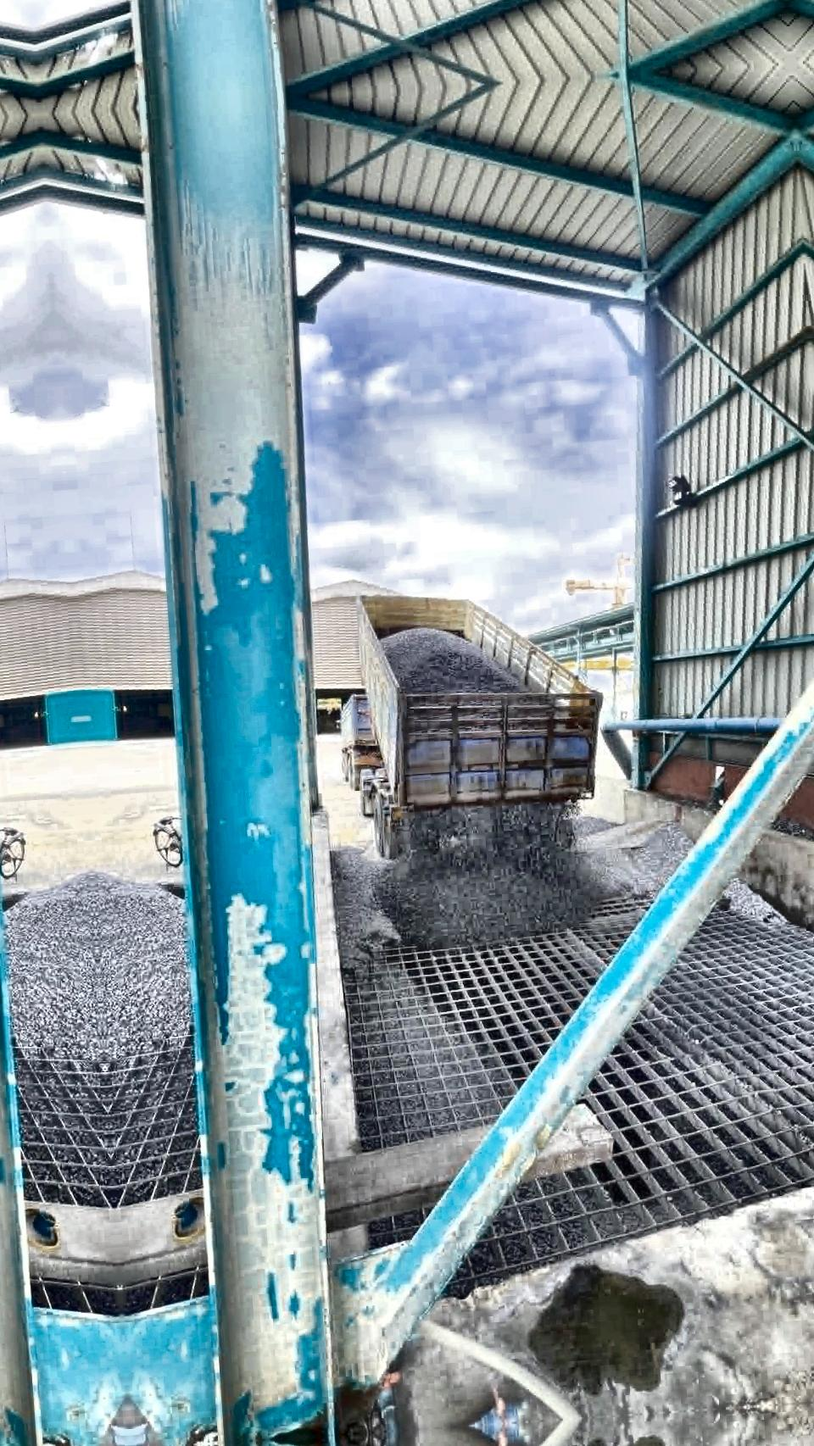gravel: (333, 804, 693, 965), (92, 873, 191, 1058), (381, 628, 526, 693), (719, 878, 787, 923)
